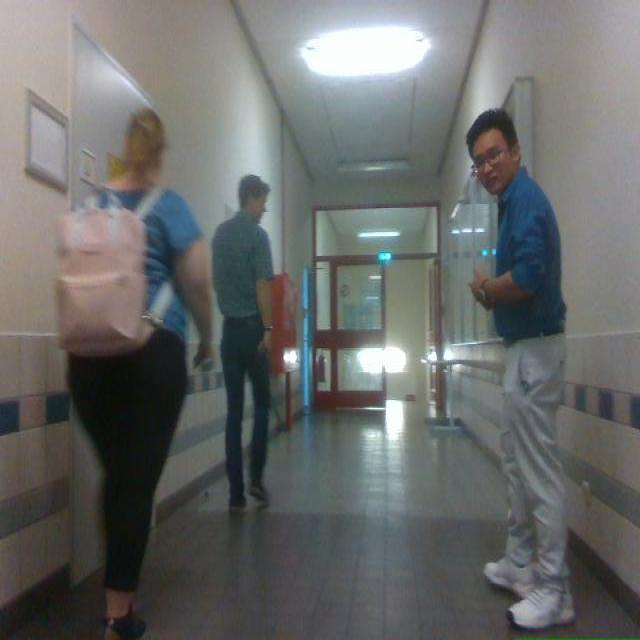humans: (68, 190, 211, 639), (69, 190, 211, 639), (466, 110, 574, 629), (467, 110, 574, 629), (212, 175, 272, 510)
objects: (56, 188, 172, 355)
